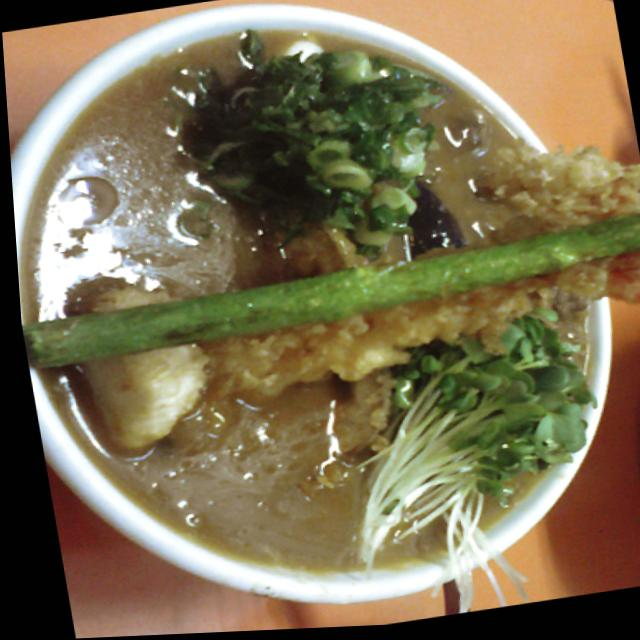面条主食: (0, 0, 640, 614)
